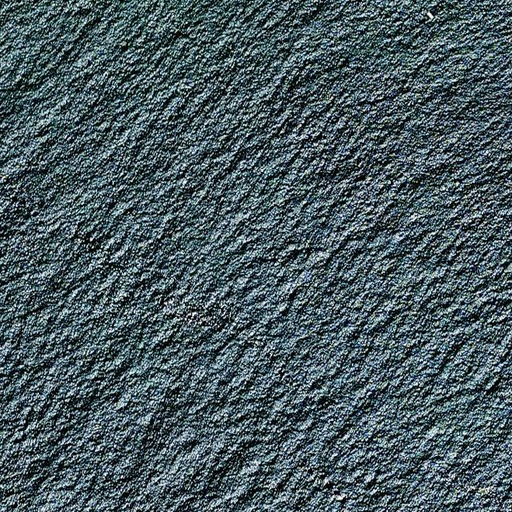ship: (425, 10, 433, 18)
